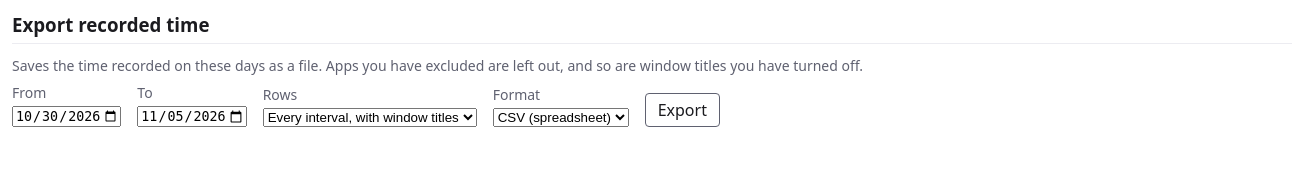
ExportData › offers no export for a range that ends before it starts
The width and height of the screenshot is (1292, 172).
Type "2026-11-04" into the date field labelled "From" at (67, 117), box [12,106,121,127]
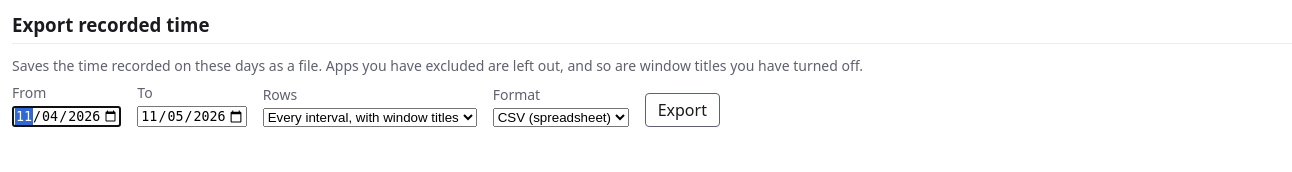
Type "2026-11-02" into the date field labelled "To" at (192, 117), box [137,106,247,127]
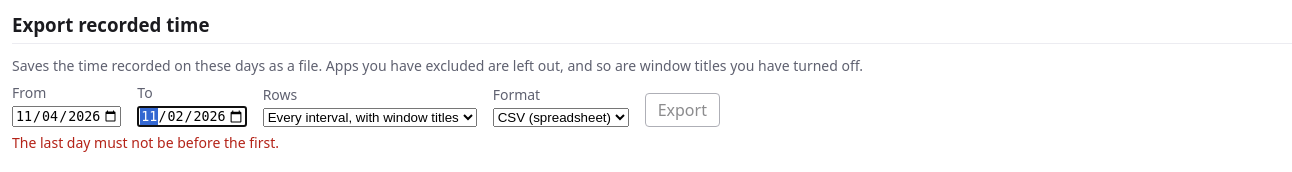
Expected: the button "Export" is disabled, [645,93,720,127]
Result: the message reads "The last day must not be before the first." at [12,133,279,152]
